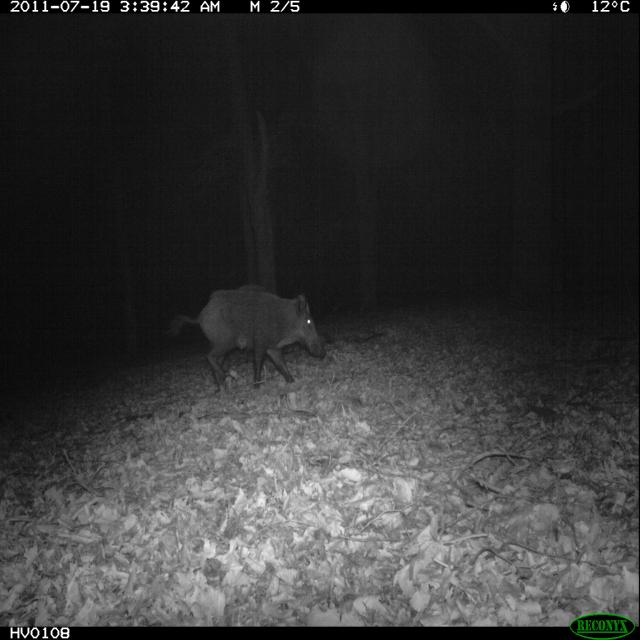boar: (166, 257, 341, 406)
